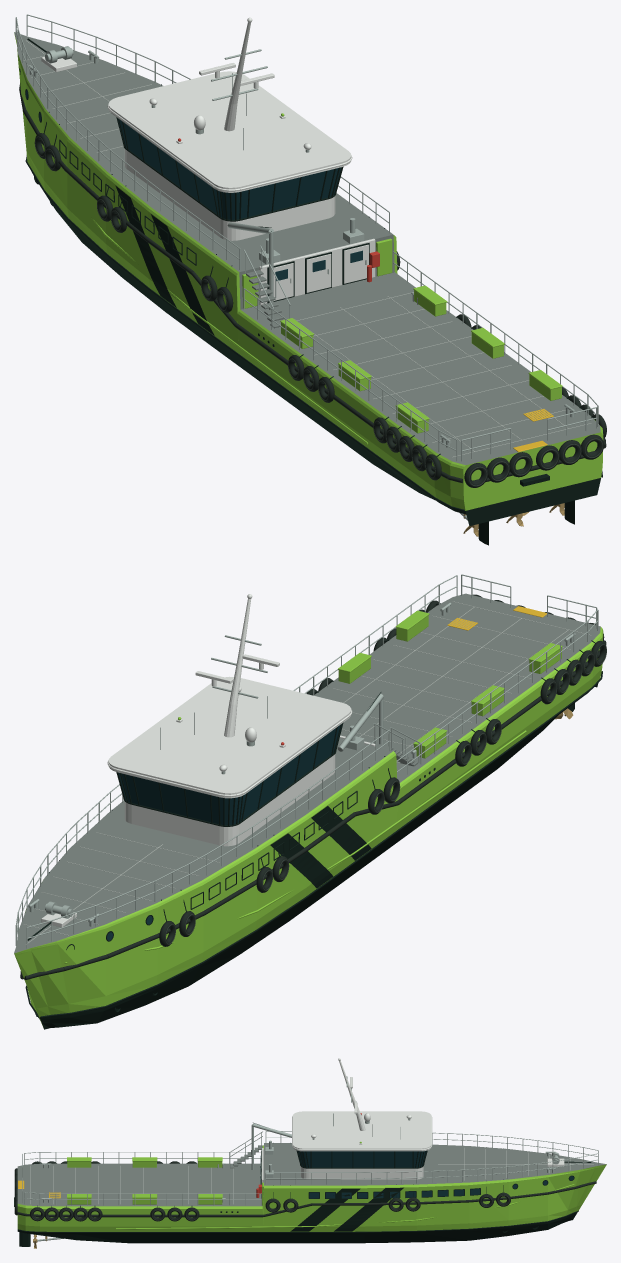
The model's file is FCB45_Unity.fbx.
3 renders of one model, top to bottom at view 1: azimuth 30°, elevation 25°; view 2: azimuth 150°, elevation 25°; view 3: azimuth 270°, elevation 25°, orthographic. The views are drawn at different scales.
Parts seen in each view (by area): view 1: FCB45_Hull.001, FCB45_Wheelhouse, FCB45_Fenders, FCB45_DeckEquipment, FCB45_Guardrails, FCB45_HullMarkings, FCB45_Glazing, FCB45_DeckMarkings, FCB45_MastAndSensors; view 2: FCB45_Hull.001, FCB45_Wheelhouse, FCB45_Fenders, FCB45_Guardrails, FCB45_DeckEquipment, FCB45_Glazing, FCB45_HullMarkings, FCB45_DeckMarkings, FCB45_MastAndSensors; view 3: FCB45_Hull.001, FCB45_Wheelhouse, FCB45_Fenders, FCB45_Guardrails, FCB45_DeckEquipment, FCB45_Glazing, FCB45_HullMarkings, FCB45_DeckMarkings, FCB45_MastAndSensors.
Part boxes in pixels (x1,y1,x2,y2): FCB45_Hull.001: [14, 32, 603, 514]; FCB45_Wheelhouse: [107, 71, 392, 308]; FCB45_Fenders: [19, 83, 606, 511]; FCB45_DeckEquipment: [27, 38, 575, 486]; FCB45_Guardrails: [15, 14, 598, 461]; FCB45_HullMarkings: [19, 68, 600, 526]; FCB45_Glazing: [26, 90, 362, 280]; FCB45_DeckMarkings: [24, 40, 591, 457]; FCB45_MastAndSensors: [149, 17, 311, 152]; FCB45_Hull.001: [14, 593, 603, 1029]; FCB45_Wheelhouse: [107, 676, 375, 846]; FCB45_Fenders: [20, 594, 606, 1017]; FCB45_Guardrails: [15, 574, 598, 948]; FCB45_DeckEquipment: [27, 602, 575, 940]; FCB45_Glazing: [107, 723, 342, 940]; FCB45_HullMarkings: [64, 683, 598, 963]; FCB45_DeckMarkings: [23, 601, 590, 944]; FCB45_MastAndSensors: [160, 594, 285, 774]; FCB45_Hull.001: [17, 1143, 606, 1243]; FCB45_Wheelhouse: [261, 1111, 432, 1205]; FCB45_Fenders: [14, 1147, 596, 1232]; FCB45_Guardrails: [22, 1131, 598, 1205]; FCB45_DeckEquipment: [14, 1122, 591, 1206]; FCB45_Glazing: [260, 1150, 573, 1198]; FCB45_HullMarkings: [116, 1175, 574, 1231]; FCB45_DeckMarkings: [30, 1148, 593, 1203]; FCB45_MastAndSensors: [311, 1058, 411, 1144].
Bounding box in the file's own units: 8.69 × 14.95 × 45.29.
